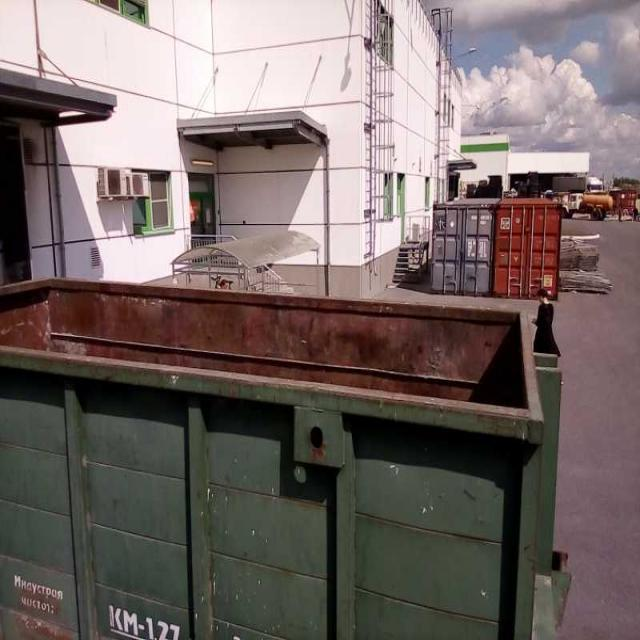Dumpster: (0, 275, 557, 640)
